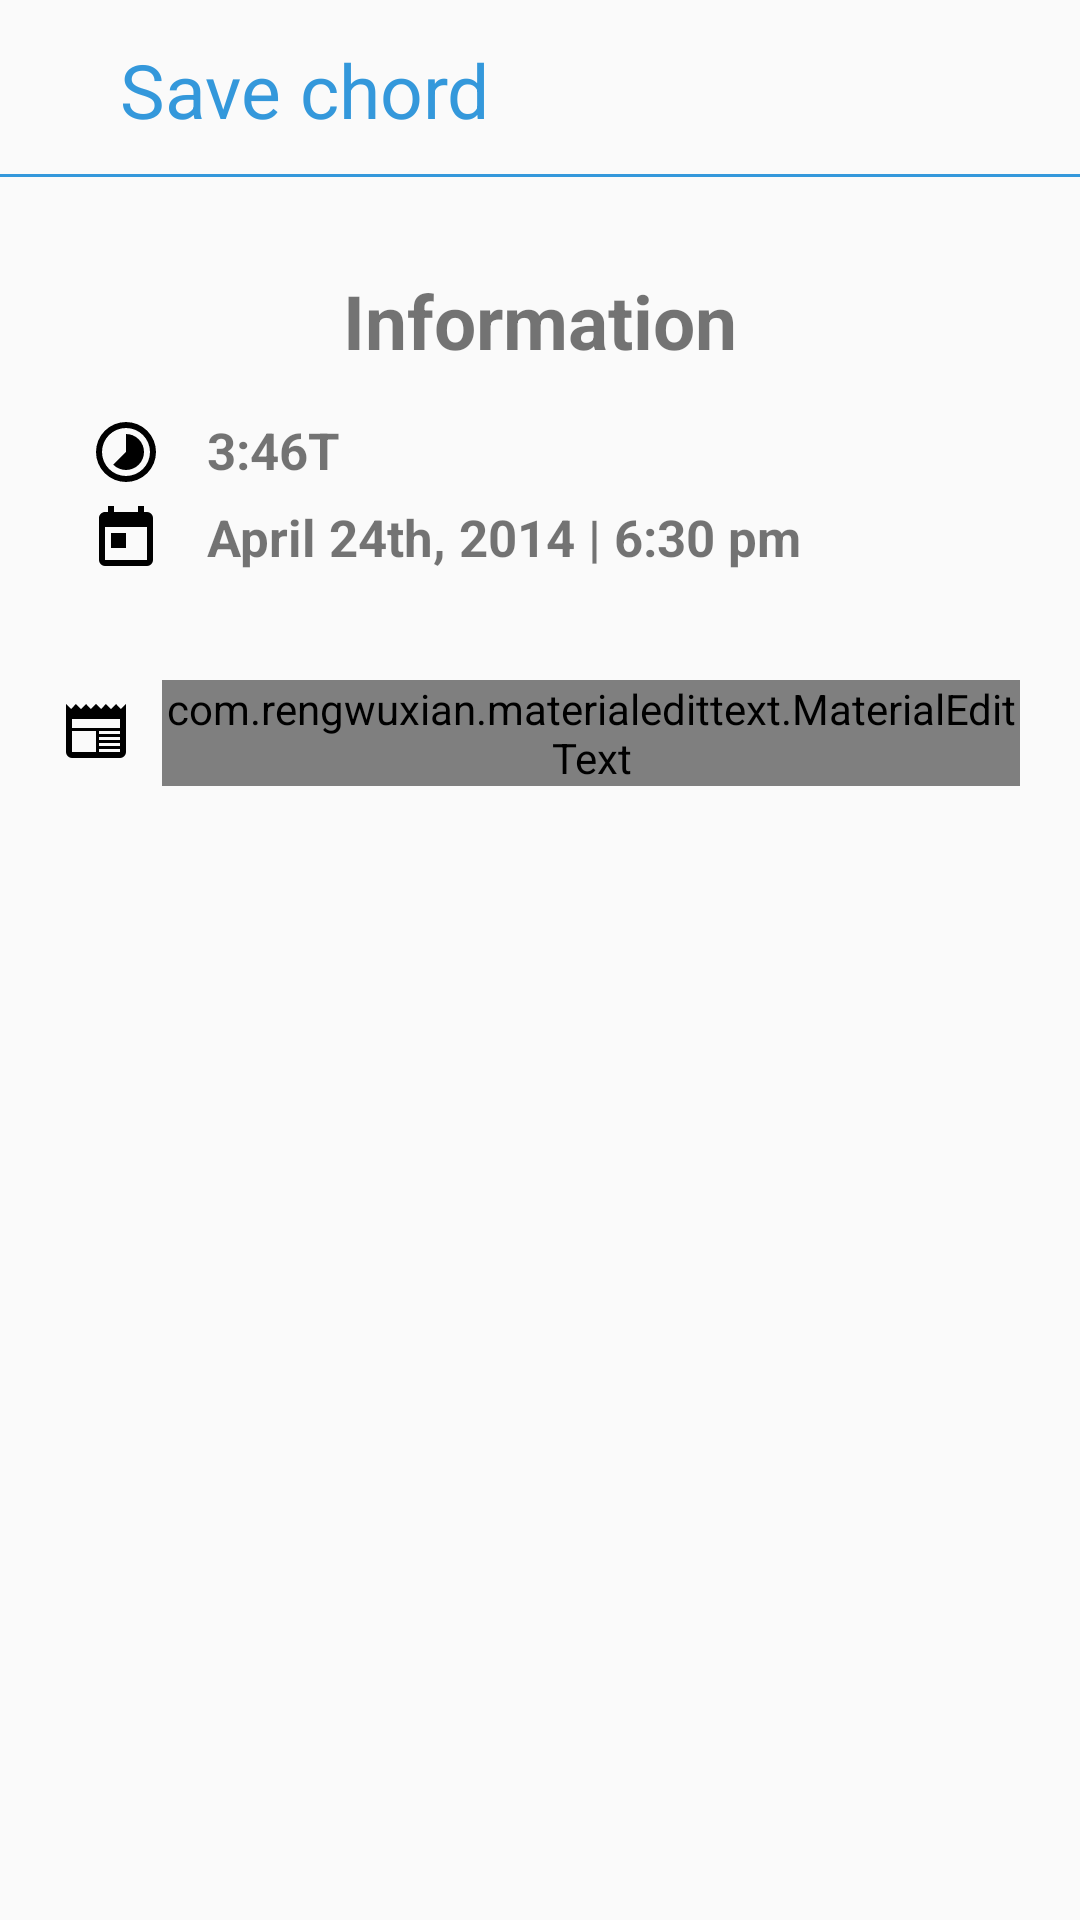

Named icons in this screenshot (1080 x 1920) and their bounding boxes, (x1,y1,x2,y2):
calendar today: (99,506,153,566)
newspaper: (66,704,126,758)
timelapse: (96,422,156,482)
